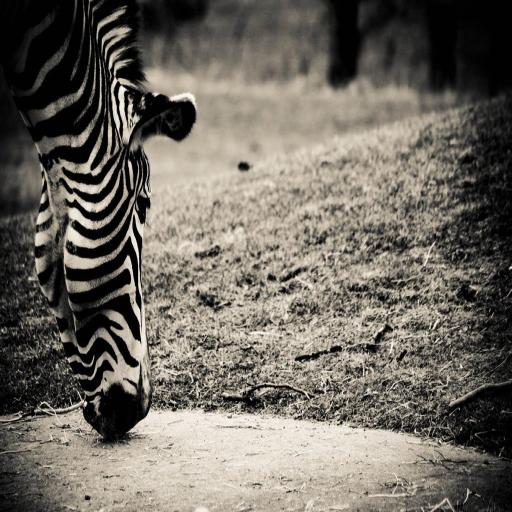Zebra: (0, 0, 199, 441)
